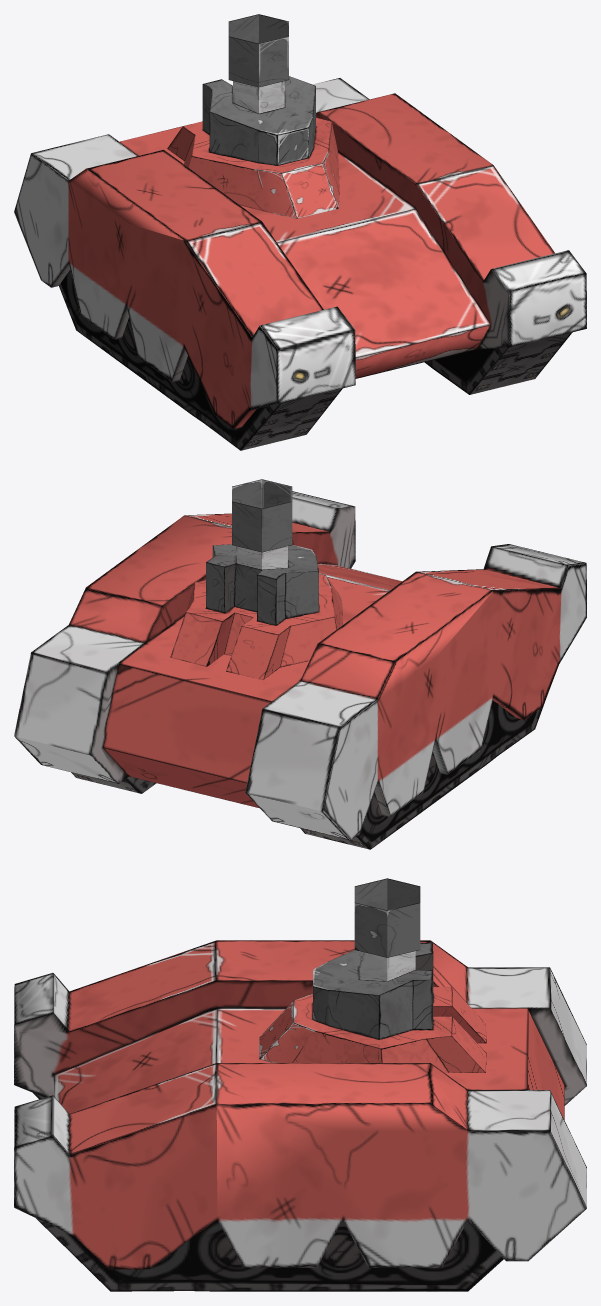
Rendered from P1MechWaistTreads_V1.fbx.
The picture shows the model from 3 angles, top to bottom: view 1: azimuth 30°, elevation 25°; view 2: azimuth 150°, elevation 25°; view 3: azimuth 270°, elevation 25°; orthographic projection. The views are drawn at different scales.
Visible parts, largest first — view 1: pasted__torso; view 2: pasted__torso; view 3: pasted__torso.
Part boxes in pixels (bbox=[...]): pasted__torso: bbox=[14, 14, 586, 450]; pasted__torso: bbox=[14, 479, 586, 849]; pasted__torso: bbox=[14, 878, 586, 1291].
Bounding box in the file's own units: 2.81 × 2.55 × 4.15.
